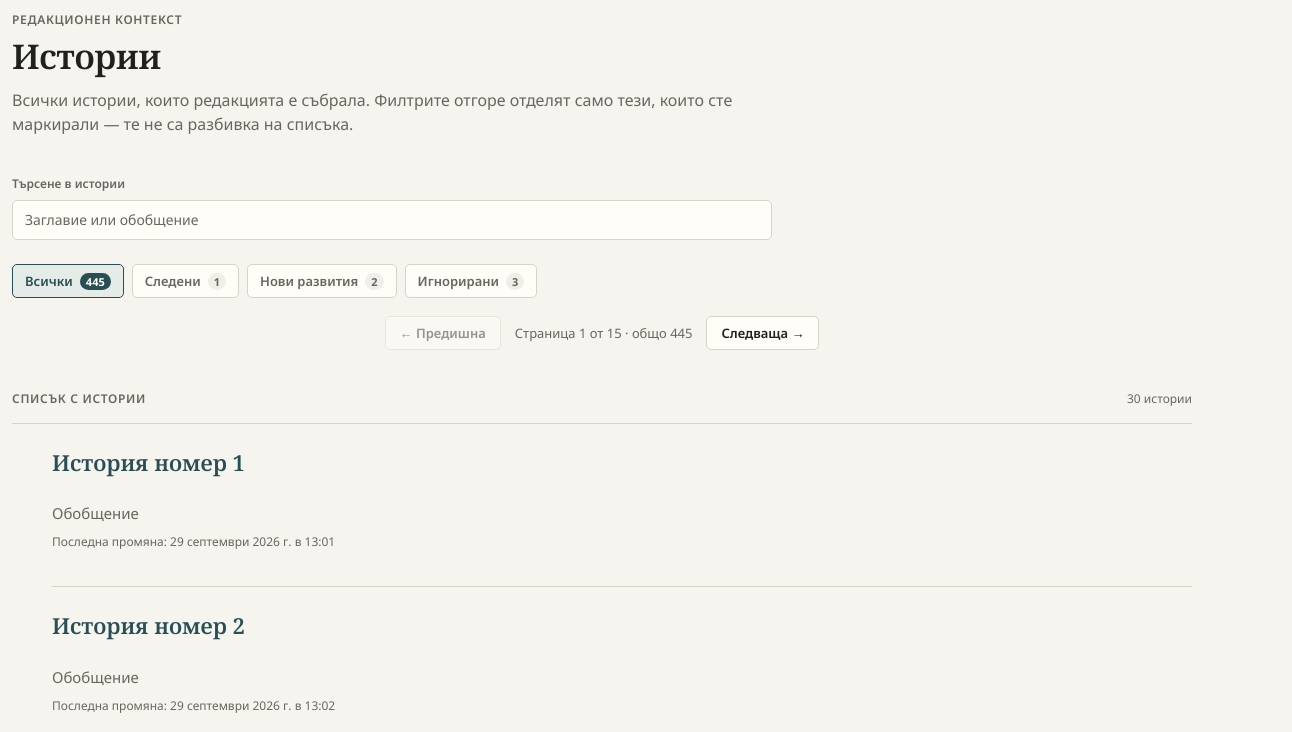
Test: Stories paging › moves to the next page and puts it in the URL
This screenshot has width=1292, height=732.
Check: the text "Страница 1 от 15 · общо 445" is shown, box top-left (515, 324), bottom-right (692, 342)
What coordinates should you click on to do the following:
click the button "Следваща →"
I would click on:
 (763, 333)
Its box is top-left (706, 316), bottom-right (819, 350).
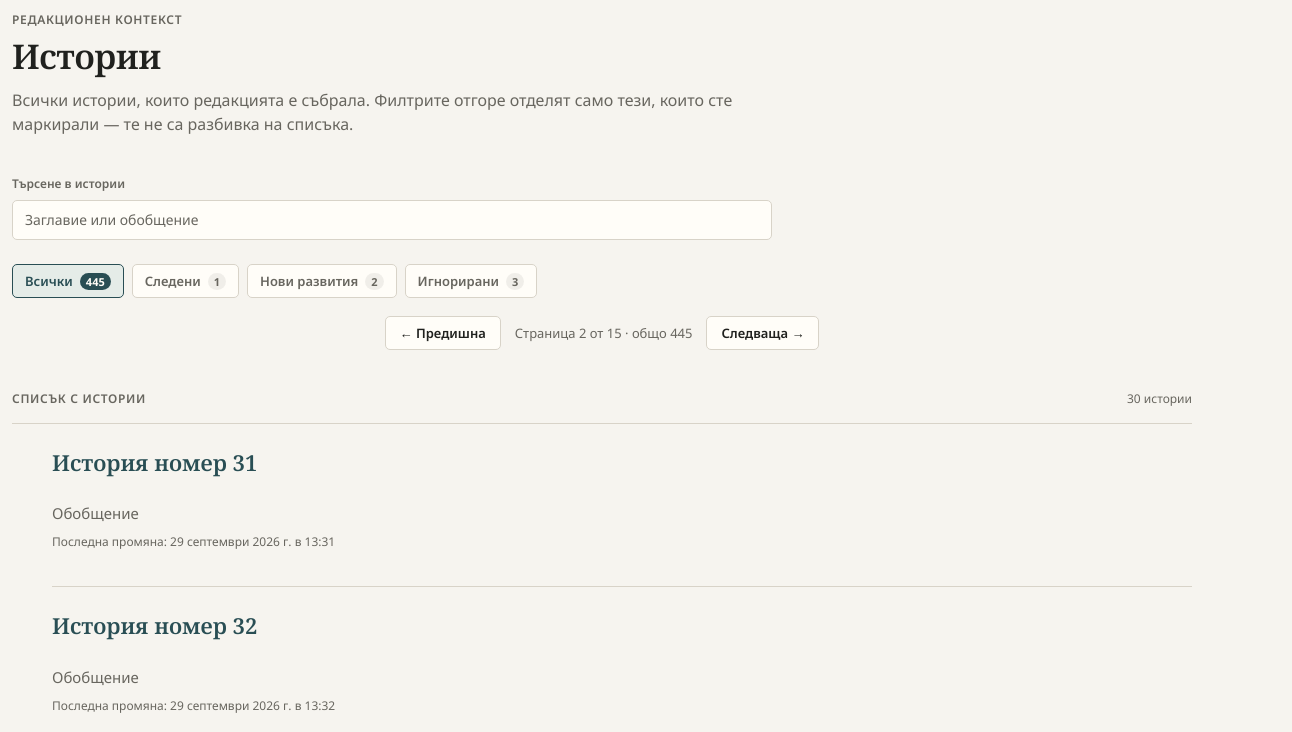
Check: the text with test id "pager-status" shows "Страница 2 от 15", box top-left (515, 324), bottom-right (692, 342)
